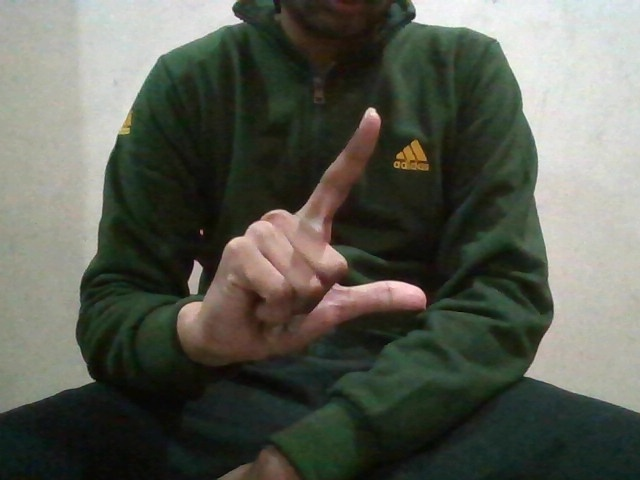L: (204, 101, 426, 358)
